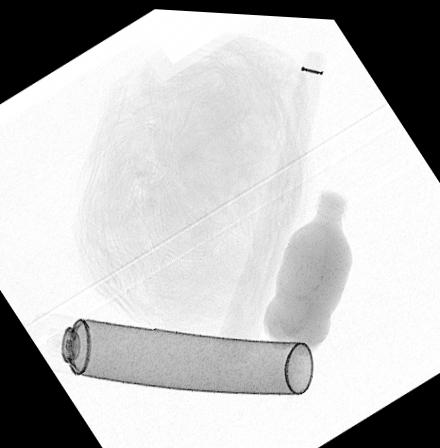Sprayer: (24, 309, 313, 391)
